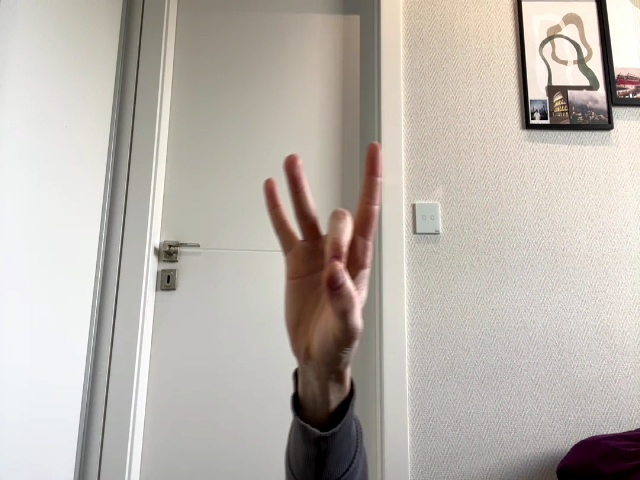G: (262, 144, 382, 354)
